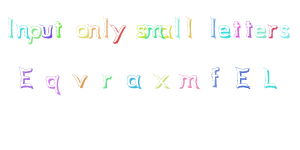E: (230, 61, 256, 93), (14, 60, 37, 93)
I: (3, 13, 16, 42)
L: (260, 63, 281, 92)
a: (123, 70, 143, 92), (161, 20, 173, 42)
e: (218, 20, 231, 42), (255, 20, 267, 43)
f: (208, 61, 224, 93)
l: (99, 15, 113, 41), (186, 14, 196, 44), (173, 14, 183, 41), (210, 13, 217, 41)
m: (177, 68, 202, 94), (146, 21, 162, 42)
n: (88, 21, 103, 44), (15, 21, 30, 41)
o: (74, 21, 90, 42)
p: (29, 22, 43, 48)
q: (42, 74, 63, 99)
r: (97, 69, 117, 93), (267, 20, 279, 44)
s: (134, 21, 148, 43), (279, 18, 291, 42)
t: (53, 17, 67, 40), (233, 13, 242, 41), (244, 18, 254, 42)
u: (40, 19, 53, 42)
v: (71, 68, 90, 91)
x: (149, 68, 174, 92)
y: (111, 21, 127, 48)
